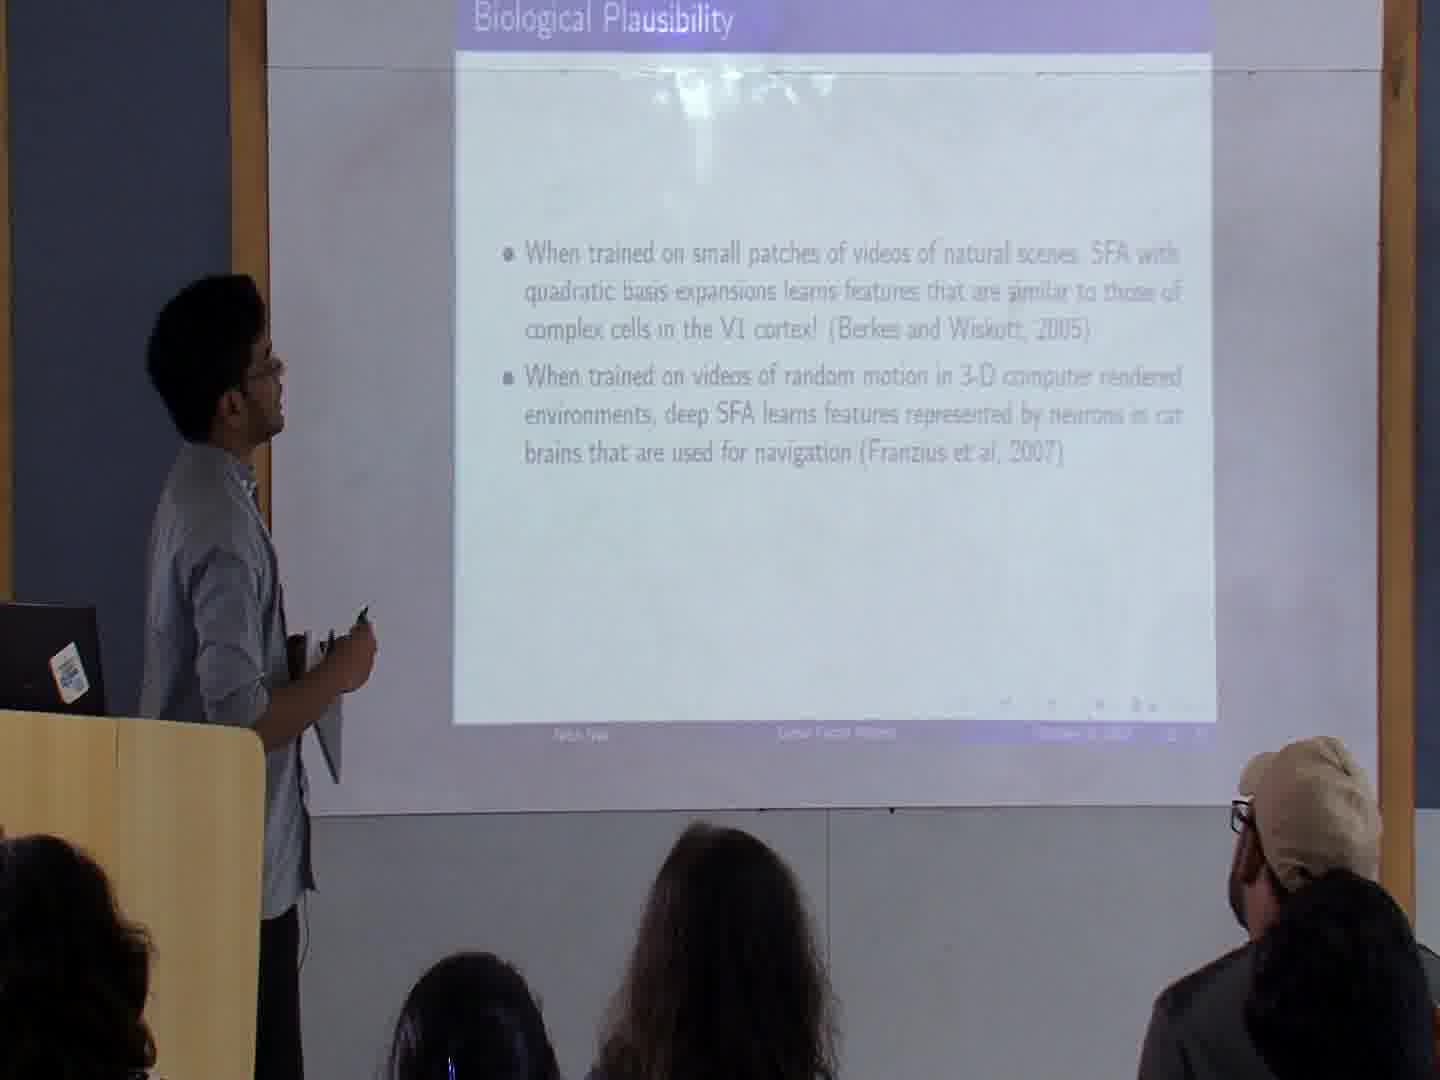slide: (454, 1, 1218, 744)
